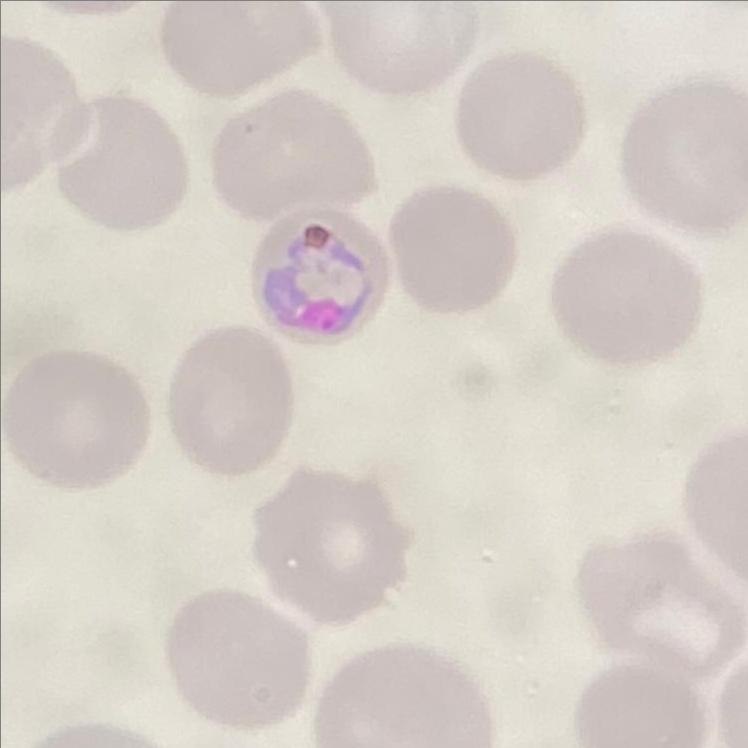Infected: (246, 195, 386, 344)
Uninfected: (574, 527, 743, 677), (246, 469, 399, 624), (0, 347, 149, 495), (212, 91, 377, 219), (164, 325, 301, 471), (170, 591, 314, 726), (550, 229, 691, 363), (50, 103, 186, 236), (626, 75, 748, 223), (318, 649, 493, 748), (396, 185, 517, 316), (454, 59, 585, 179), (0, 41, 94, 205), (158, 1, 319, 95), (320, 0, 473, 92), (578, 665, 706, 748)
